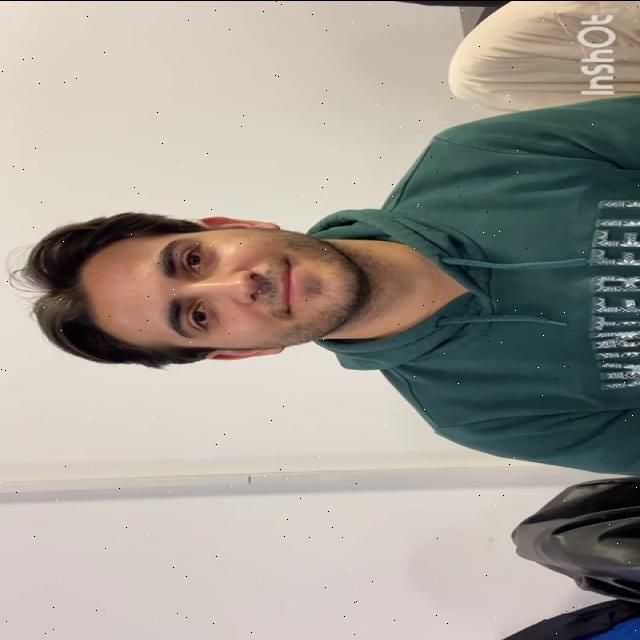happy: (73, 216, 359, 362)
